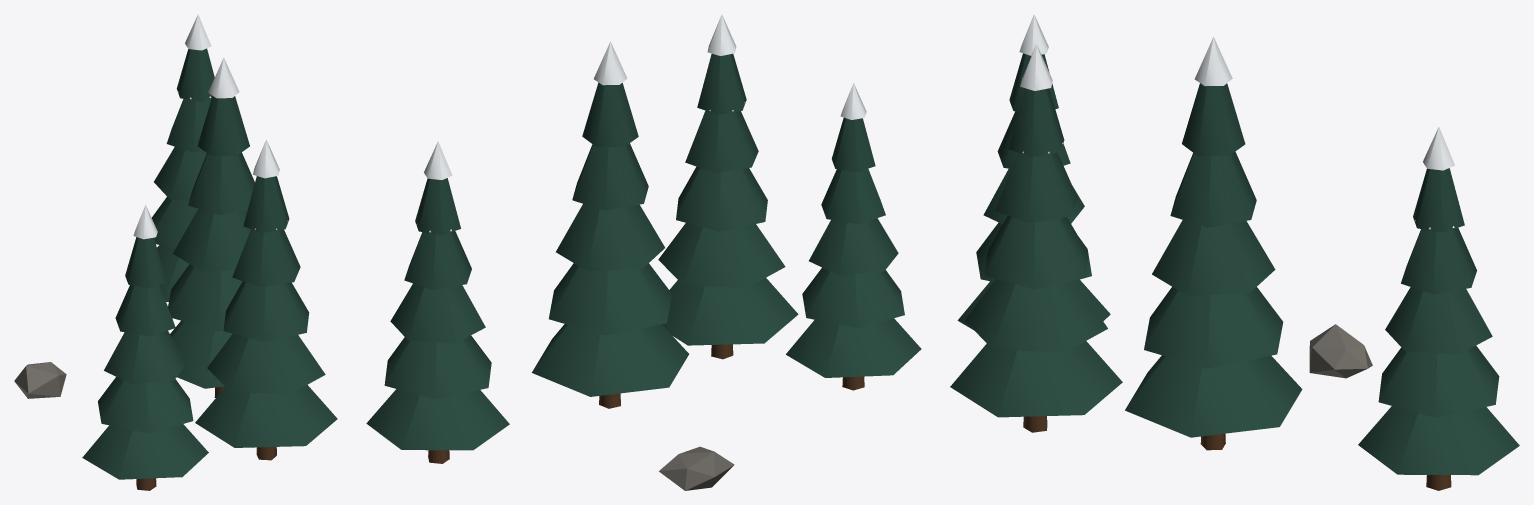
The model's file is sawyer_spruce_ridge_e.glb.
3 renders of one model, left to right at view 1: azimuth 30°, elevation 25°; view 2: azimuth 150°, elevation 25°; view 3: azimuth 270°, elevation 25°, orthographic. The views are drawn at different scales.
Parts seen in each view (by area): view 1: snowspruce_3_tier0, snowspruce_3_tier1, snowspruce_2_tier0, snowspruce_2_tier1, snowspruce_3_tier2, snowspruce_1_tier2, snowspruce_1_tier1, snowspruce_2_tier2, snowspruce_1_tier3, snowspruce_3_tier3, snowspruce_1_tier0, snowspruce_2_tier3 (+13 smaller); view 2: snowspruce_1_tier0, snowspruce_3_tier0, snowspruce_1_tier1, snowspruce_0_tier0, snowspruce_3_tier1, snowspruce_2_tier0, snowspruce_1_tier2, snowspruce_0_tier1, snowspruce_2_tier1, snowspruce_3_tier2, snowspruce_0_tier2, snowspruce_1_tier3 (+12 smaller); view 3: snowspruce_1_tier0, snowspruce_3_tier0, snowspruce_1_tier1, snowspruce_0_tier0, snowspruce_3_tier1, snowspruce_1_tier2, snowspruce_0_tier1, snowspruce_3_tier2, snowspruce_0_tier2, snowspruce_1_tier3, snowspruce_3_tier3, snowspruce_0_tier3 (+13 smaller).
Part boxes in pixels (x1,y1,x2,y2): snowspruce_3_tier0: (195,385,337,447); snowspruce_3_tier1: (207,334,325,394); snowspruce_2_tier0: (82,424,208,479); snowspruce_2_tier1: (98,377,193,433); snowspruce_3_tier2: (223,281,309,341); snowspruce_1_tier2: (173,209,250,271); snowspruce_1_tier1: (168,264,242,331); snowspruce_2_tier2: (104,330,187,384); snowspruce_1_tier3: (188,152,254,215); snowspruce_3_tier3: (232,229,300,287); snowspruce_1_tier0: (170,320,232,388); snowspruce_2_tier3: (115,285,175,336); snowspruce_1_tier0: (532,324,688,396); snowspruce_3_tier0: (662,278,798,345); snowspruce_1_tier1: (548,263,672,335); snowspruce_0_tier0: (366,389,509,450); snowspruce_3_tier1: (658,223,785,288); snowspruce_2_tier0: (786,318,921,377); snowspruce_1_tier2: (556,204,664,271); snowspruce_0_tier1: (384,335,491,399); snowspruce_2_tier1: (802,267,904,328); snowspruce_3_tier2: (676,166,767,231); snowspruce_0_tier2: (390,283,485,343); snowspruce_1_tier3: (572,143,648,210); snowspruce_1_tier0: (1125,355,1302,437); snowspruce_3_tier0: (950,341,1122,417); snowspruce_1_tier1: (1144,287,1283,368); snowspruce_0_tier0: (1358,406,1519,475); snowspruce_3_tier1: (965,279,1107,352); snowspruce_1_tier2: (1152,220,1275,295); snowspruce_0_tier1: (1378,345,1499,417); snowspruce_3_tier2: (984,216,1088,289); snowspruce_0_tier2: (1385,287,1492,354); snowspruce_1_tier3: (1170,151,1256,227); snowspruce_3_tier3: (995,152,1077,222); snowspruce_0_tier3: (1401,228,1476,294).
Bounding box in the file's own units: 3.38 × 3.46 × 4.31.
